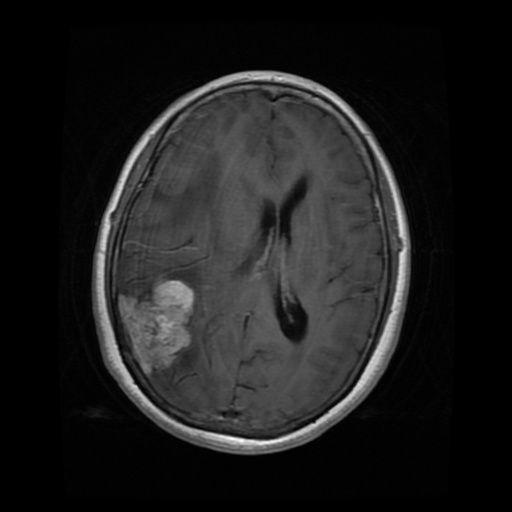meningioma: (118, 279, 195, 373)
